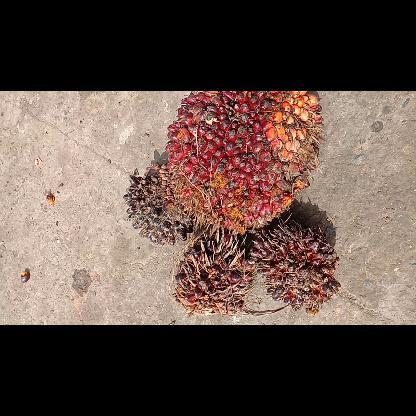TBS abnormal: (248, 223, 342, 316), (172, 226, 256, 318), (120, 162, 196, 246)
TBS masak: (162, 92, 326, 235)
